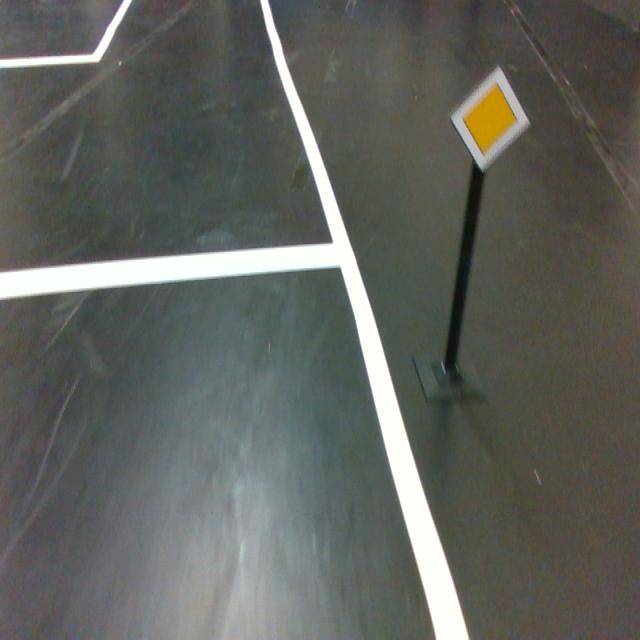priority-sign: (448, 64, 532, 174)
